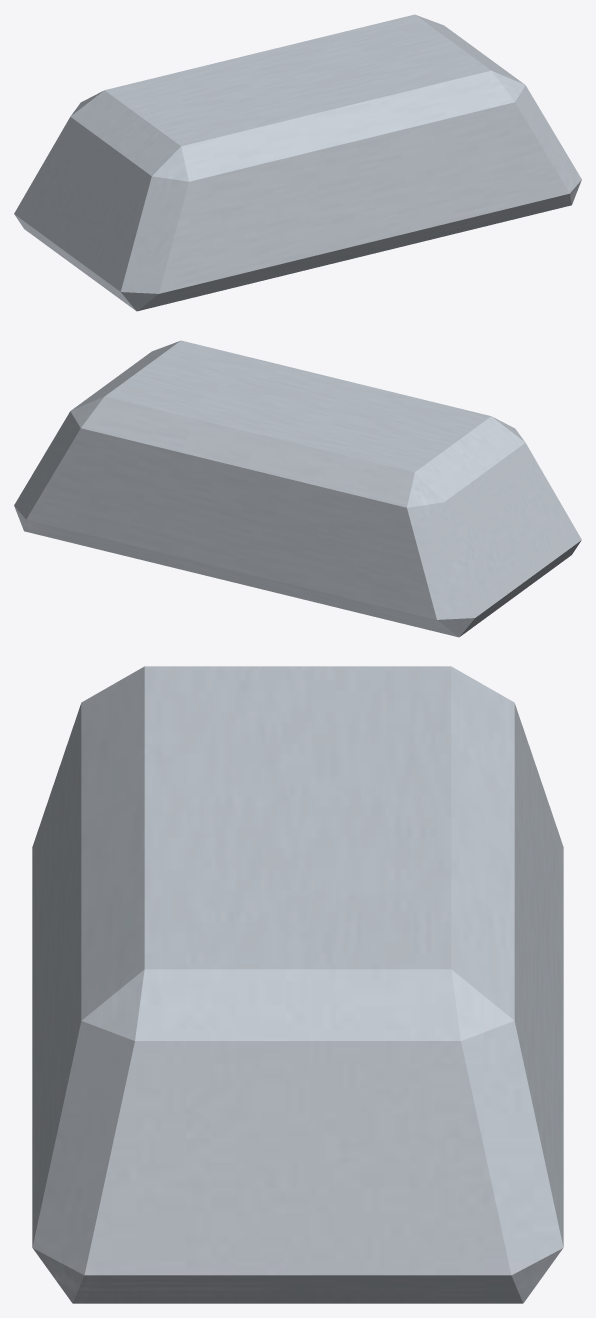
Rendered from res_iron_ingot_low.glb.
3 renders of one model, top to bottom at view 1: azimuth 30°, elevation 25°; view 2: azimuth 150°, elevation 25°; view 3: azimuth 270°, elevation 25°, orthographic. The views are drawn at different scales.
Parts seen in each view (by area): view 1: res_iron_ingot_low; view 2: res_iron_ingot_low; view 3: res_iron_ingot_low.
Boxes of the visible parts, x1,y1,x2,y2 form: res_iron_ingot_low: [14, 14, 581, 311]; res_iron_ingot_low: [14, 340, 581, 637]; res_iron_ingot_low: [32, 666, 563, 1303].
Size of the model in its own units: 0.3 by 0.085 by 0.1496.
Materials: 1 (1 with a texture image).
